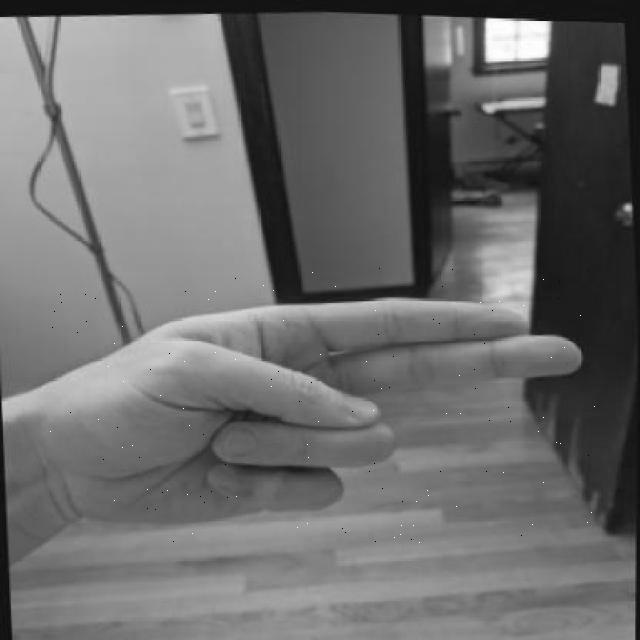H: (49, 267, 596, 547)
